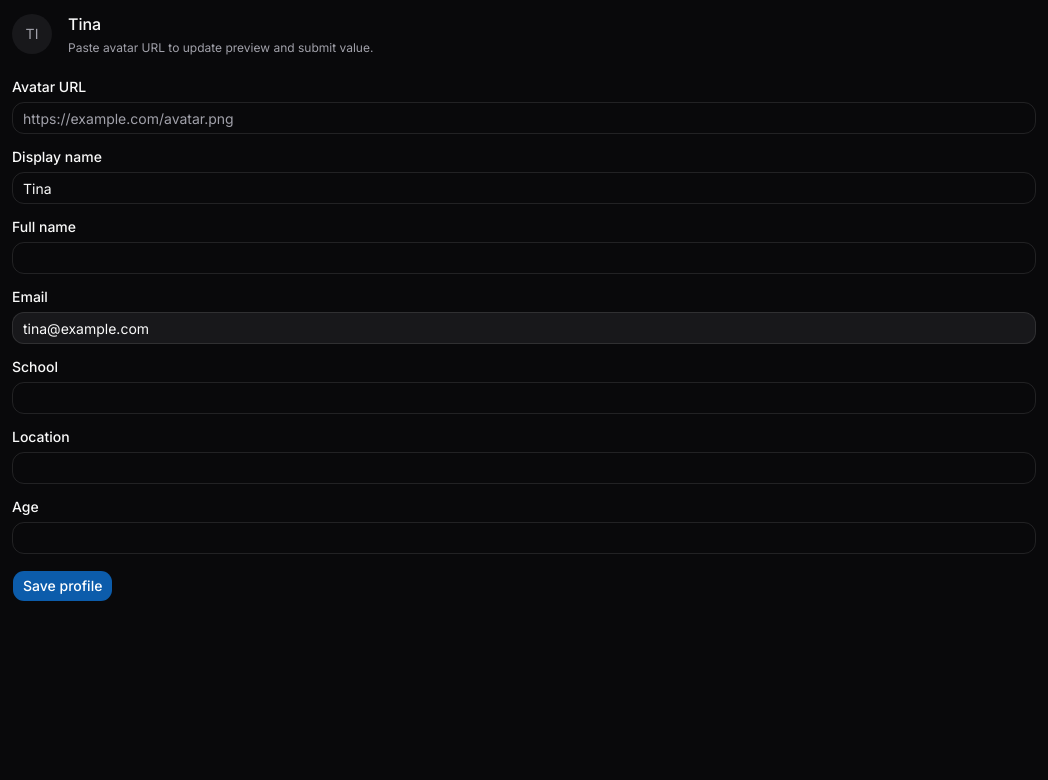
Scenario: ProfileForm › blocks save with inline validation when display name is empty
Clear the field labelled "Display name" at (524, 188), box 12,172 -> 1036,204
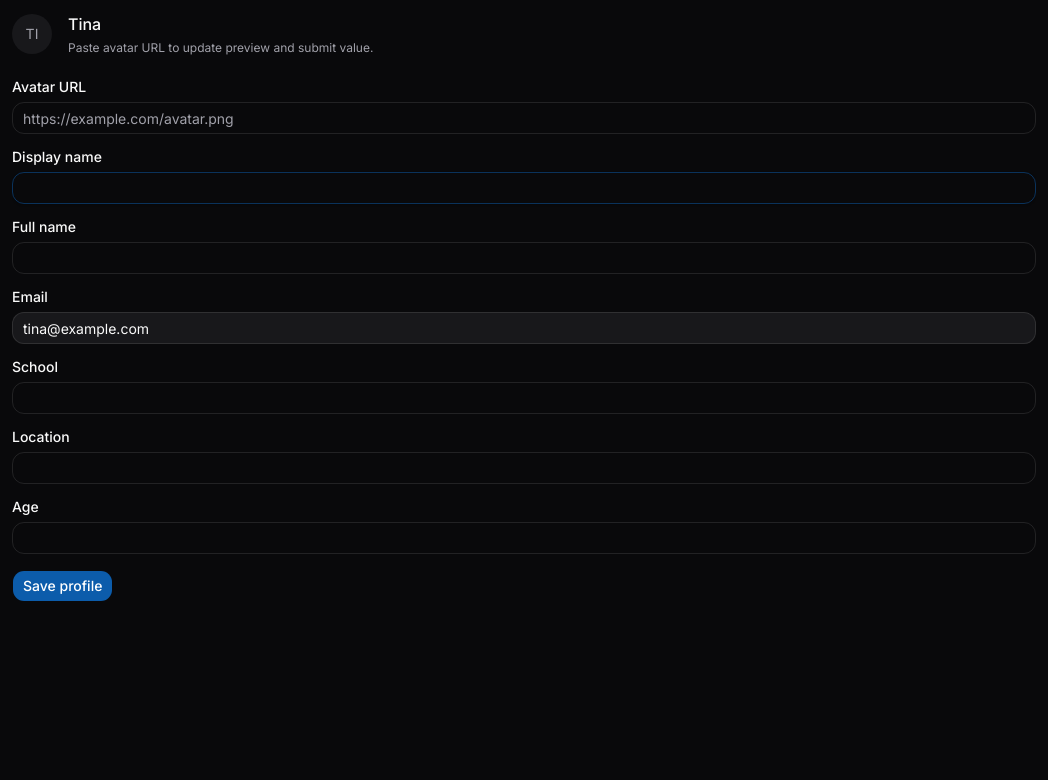
Click the button "Save profile" at (63, 586), box 12,570 -> 113,602
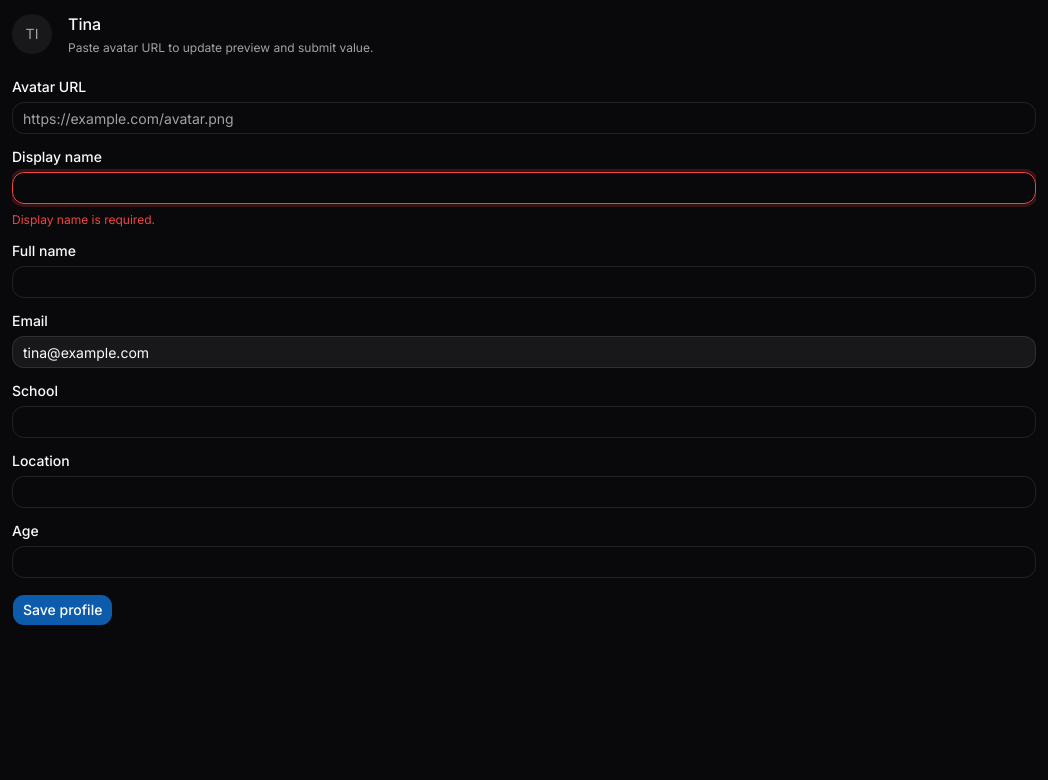
Result: the text "Display name is required." is shown at 12,212 -> 155,227
